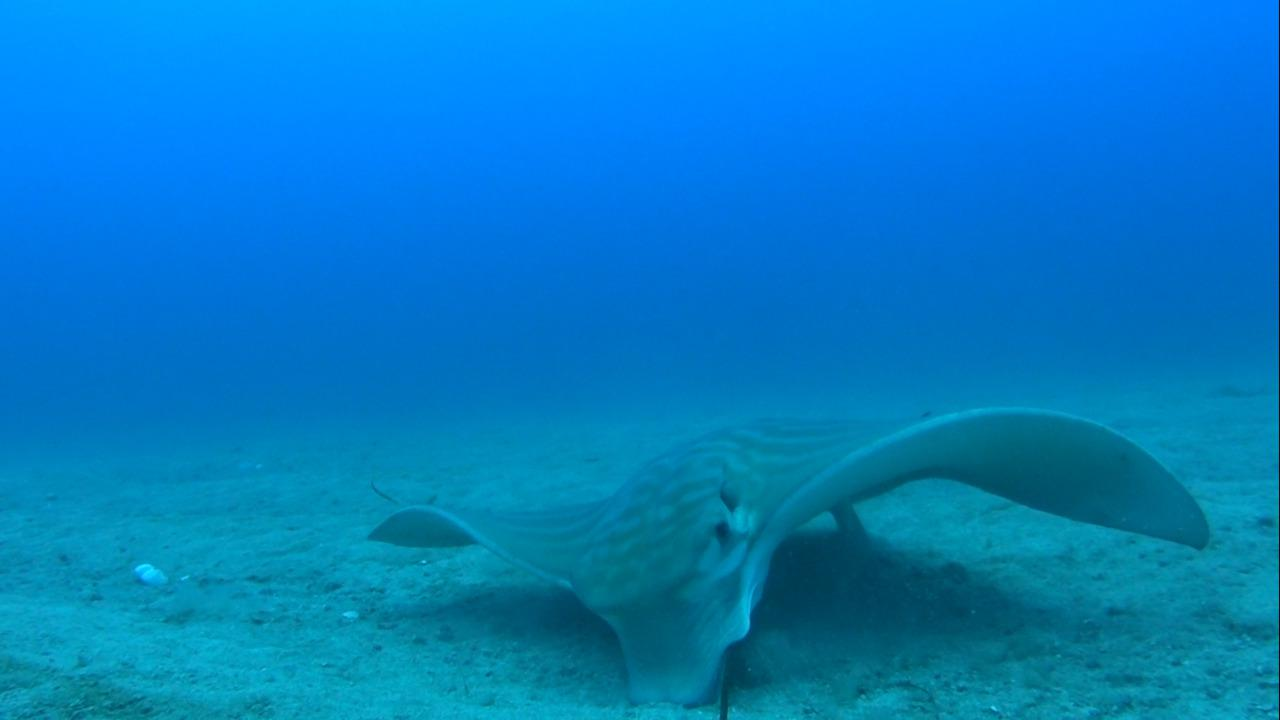myliobatis: (360, 397, 1218, 719)
